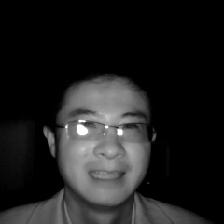happy: (32, 57, 169, 211)
